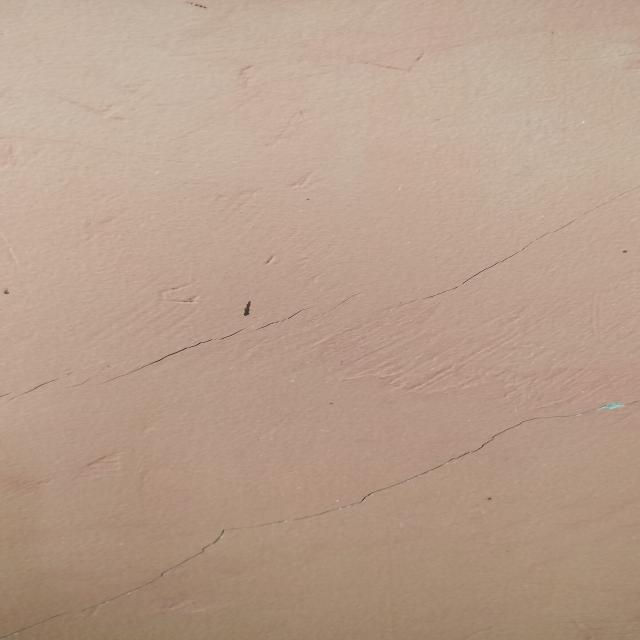Crack: (14, 406, 619, 636)
